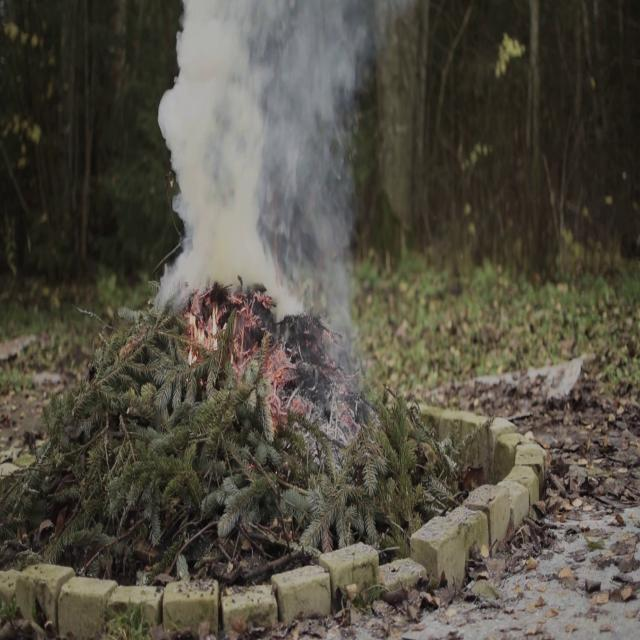Smoke: (156, 0, 370, 316)
